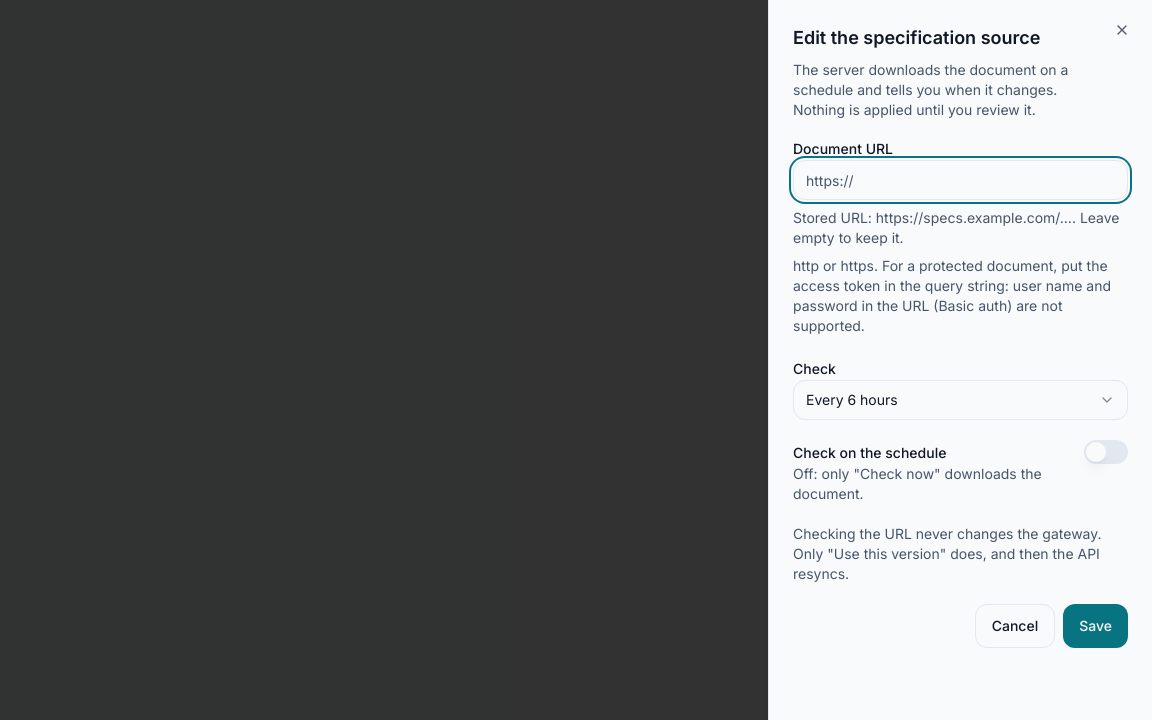
Test: SpecSourceSheet › an edit without a stored URL (400 SPEC_SOURCE_URL_REQUIRED) is explained on the field
The image size is (1152, 720).
Click the button "Save".
click(1096, 626)  # box x1=1063 y1=604 x2=1128 y2=648
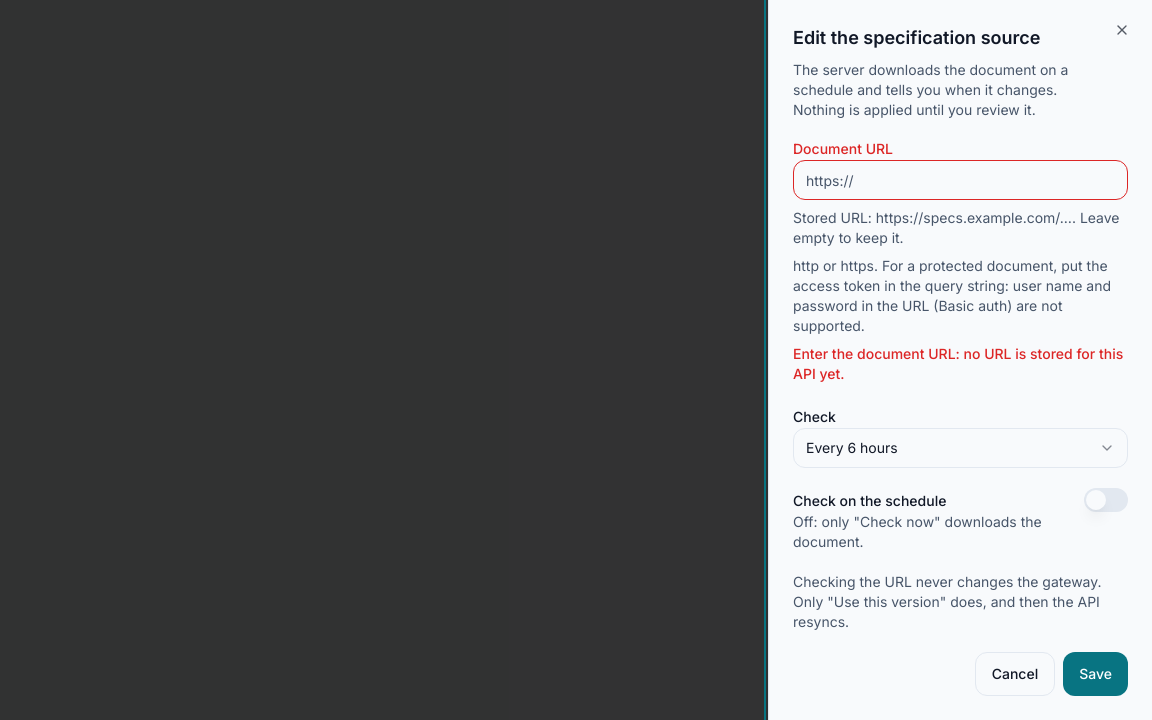
Expected: the text "Enter the document URL: no URL is stored for this API yet." is shown, x1=793 y1=344 x2=1128 y2=384
